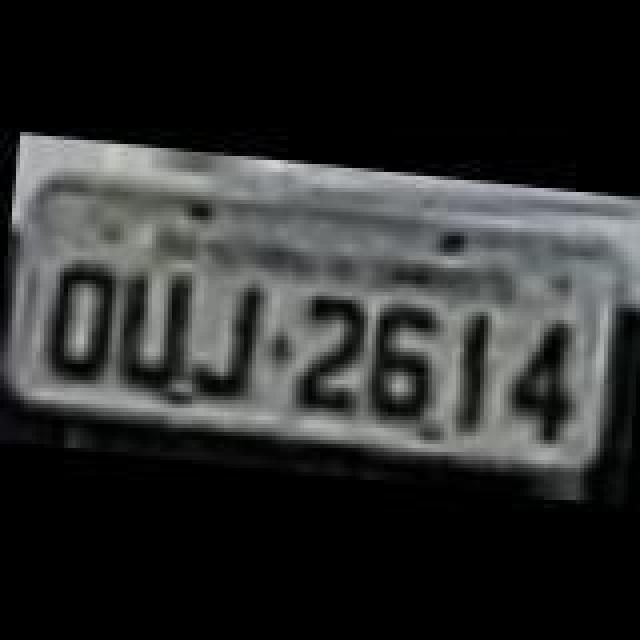1: (444, 308, 500, 444)
2: (290, 286, 374, 418)
4: (500, 308, 580, 452)
6: (360, 294, 448, 426)
J: (182, 268, 266, 404)
O: (40, 254, 120, 386)
U: (112, 262, 192, 394)
